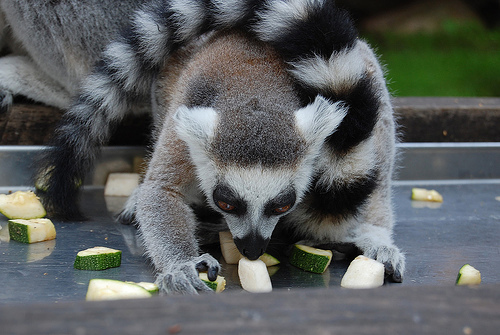cat: (29, 1, 409, 301), (0, 0, 163, 122)
